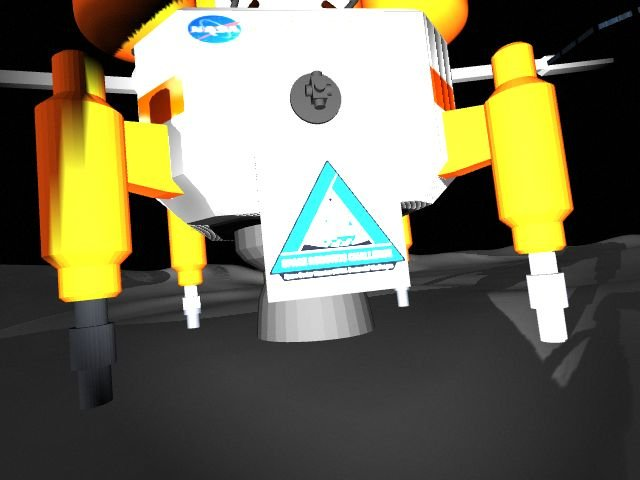basemarker: (269, 156, 409, 282)
